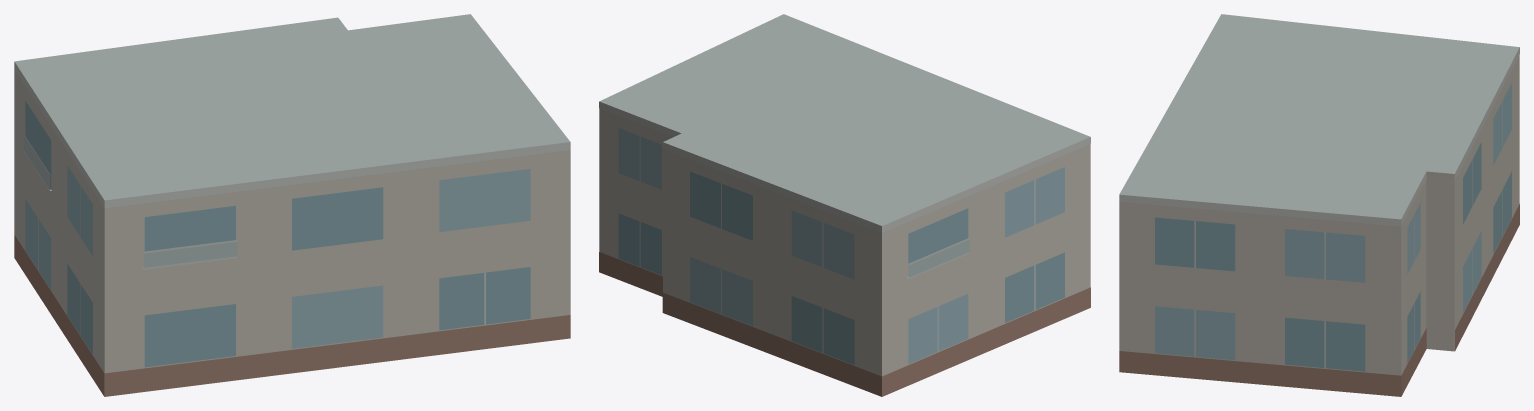
Rendered from survey-upis-32561927.glb.
3 renders of one model, left to right at view 1: azimuth 30°, elevation 25°; view 2: azimuth 150°, elevation 25°; view 3: azimuth 270°, elevation 25°, orthographic. The views are drawn at different scales.
Visible parts, largest first — view 1: survey-upis-32561927.tmp; view 2: survey-upis-32561927.tmp; view 3: survey-upis-32561927.tmp.
Boxes of the visible parts, x1=… form: survey-upis-32561927.tmp: x1=14, y1=14, x2=570, y2=396; survey-upis-32561927.tmp: x1=599, y1=14, x2=1090, y2=396; survey-upis-32561927.tmp: x1=1119, y1=14, x2=1519, y2=396.
Size of the model in its own units: 15.15 by 6.1 by 12.49.
